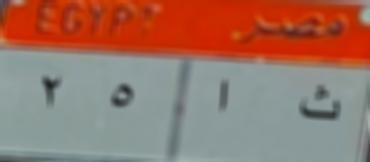2: (34, 70, 69, 113)
alif: (206, 74, 242, 122), (104, 76, 145, 116)
thaa: (293, 79, 349, 130)
